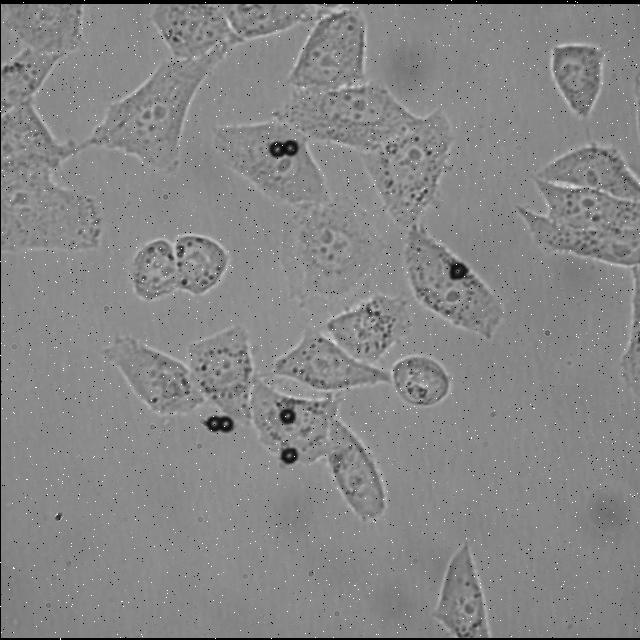microbeads: (204, 409, 222, 439), (268, 135, 286, 161), (218, 410, 236, 436), (448, 260, 468, 280), (278, 442, 296, 464), (281, 138, 299, 156), (278, 408, 294, 427)
